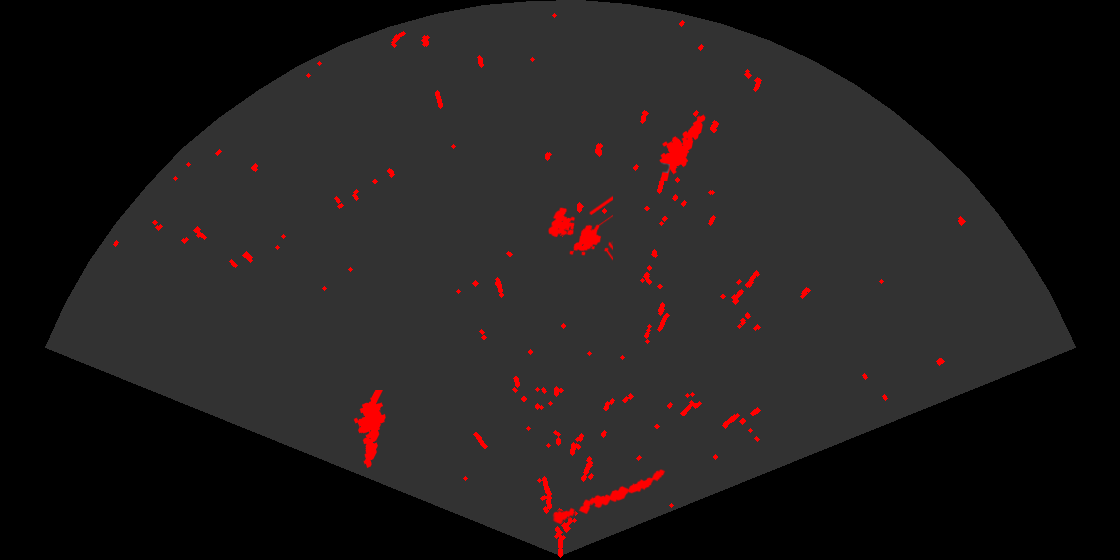cage: (546, 194, 613, 262)
chain: (550, 468, 667, 526)
frogman: (658, 113, 707, 181), (352, 390, 387, 470)
